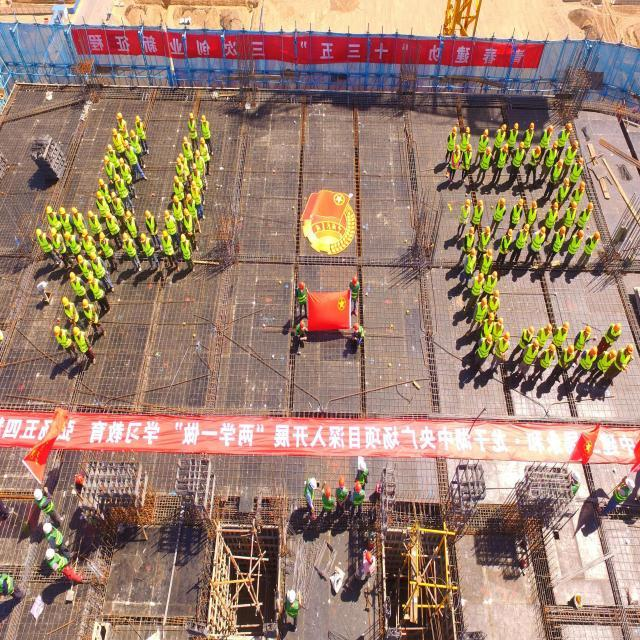reflective_jacket: (4, 575, 14, 593), (42, 496, 53, 512), (298, 287, 307, 304)
safety_helmet: (286, 588, 297, 603), (365, 550, 373, 563), (34, 488, 42, 501), (351, 274, 358, 285)
